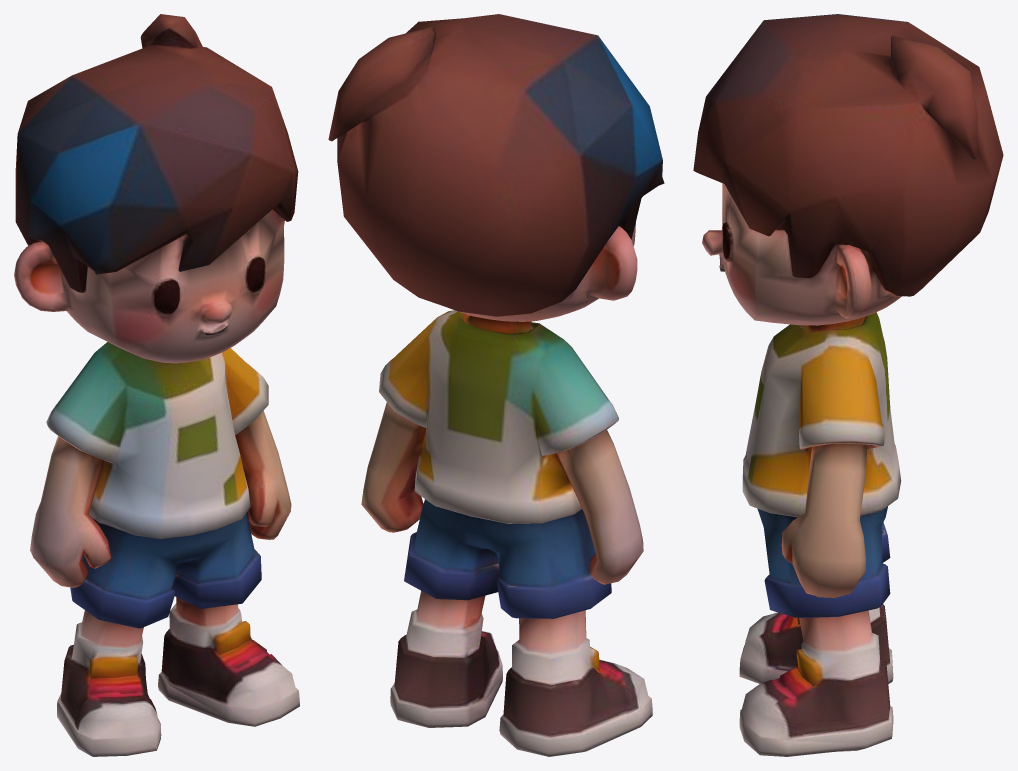
The model's file is boy.glb.
3 renders of one model, left to right at view 1: azimuth 30°, elevation 25°; view 2: azimuth 150°, elevation 25°; view 3: azimuth 270°, elevation 25°, orthographic. The views are drawn at different scales.
Visible parts, largest first — view 1: material; view 2: material; view 3: material.
Boxes of the visible parts, box(x1,y1,x2,y2) form: material: box(14, 14, 299, 756); material: box(328, 14, 664, 756); material: box(693, 14, 1003, 756).
Size of the model in its own units: 0.8182 by 1.9 by 0.7752.
Materials: 1 (1 with a texture image).
